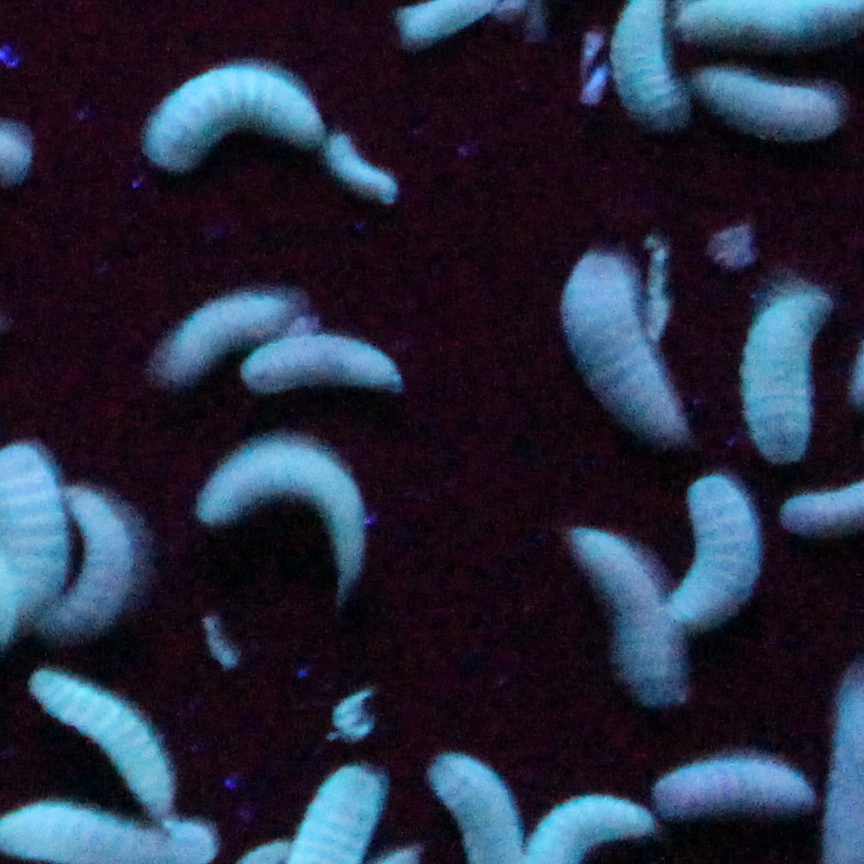larve: (194, 432, 363, 577), (571, 257, 687, 444), (140, 65, 326, 169), (576, 528, 682, 708), (33, 670, 174, 801), (736, 288, 826, 467), (673, 477, 755, 639), (62, 484, 136, 642), (157, 289, 294, 368), (651, 758, 810, 821), (696, 72, 841, 139), (241, 338, 397, 385), (332, 134, 396, 206)
